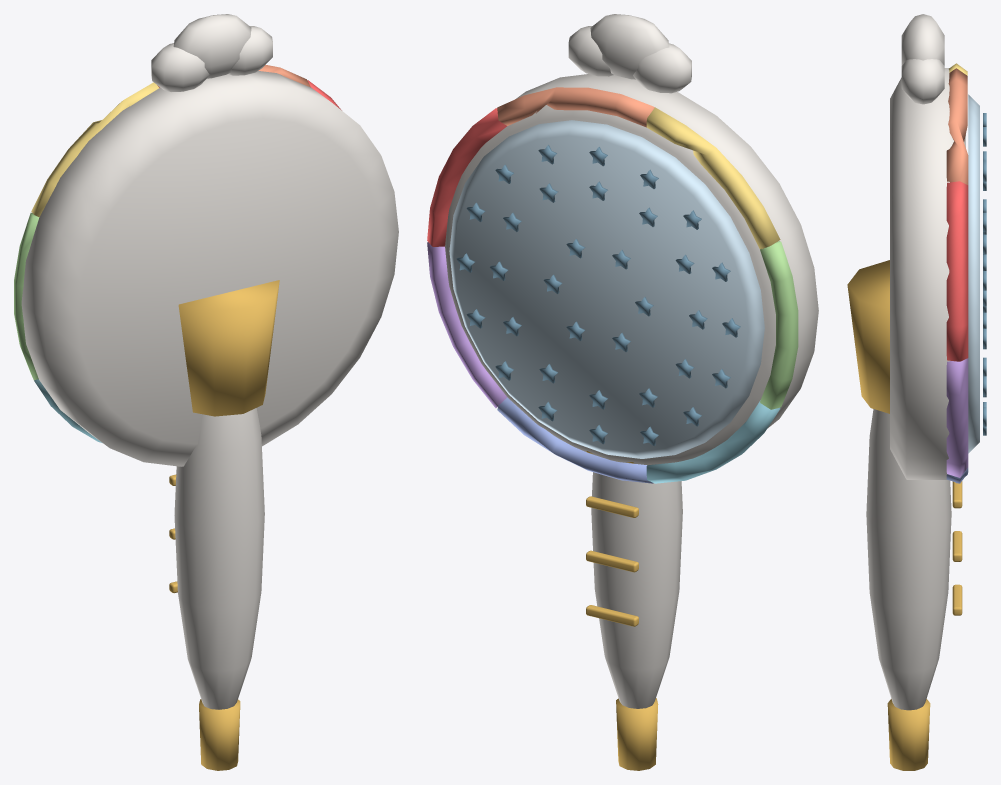
File: shower_rainbow.glb
The picture shows the model from 3 angles, left to right: view 1: azimuth 30°, elevation 25°; view 2: azimuth 150°, elevation 25°; view 3: azimuth 270°, elevation 25°; orthographic projection.
Parts seen in each view (by area): view 1: Body, Ring; view 2: Body, Ring; view 3: Body, Ring.
Boxes of the visible parts, x1,y1,x2,y2 form: Body: (21, 14, 398, 770); Ring: (14, 64, 341, 443); Body: (445, 14, 818, 770); Ring: (427, 87, 798, 483); Body: (847, 14, 986, 770); Ring: (946, 63, 968, 483).
Size of the model in its own units: 0.179 by 0.35 by 0.0594.
11 materials, 11 textured.
